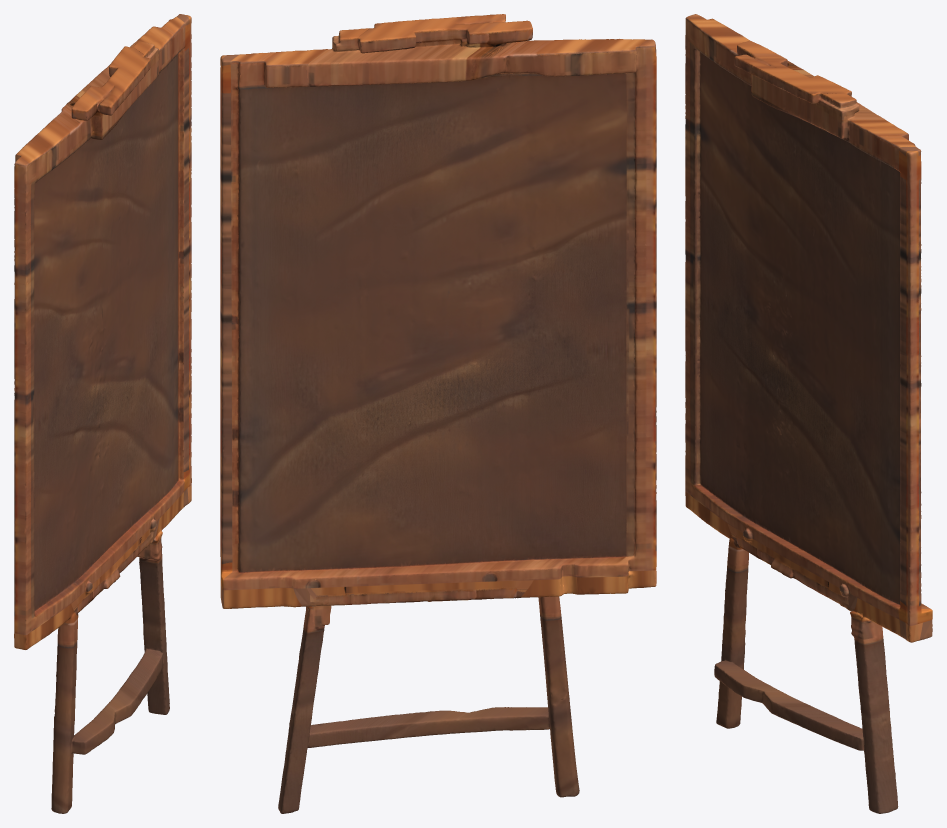
The picture shows the model from 3 angles, left to right: view 1: azimuth 30°, elevation 25°; view 2: azimuth 150°, elevation 25°; view 3: azimuth 270°, elevation 25°; orthographic projection. The views are drawn at different scales.
Bounding box in the file's own units: 0.8627 × 2 × 0.6454.
1 material, 1 textured.
